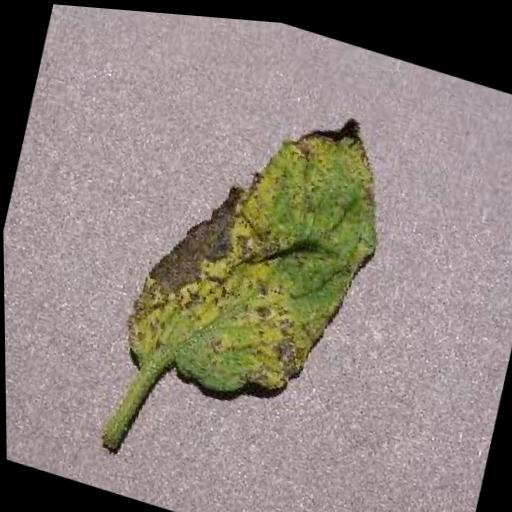Septoria: (114, 75, 402, 430)
